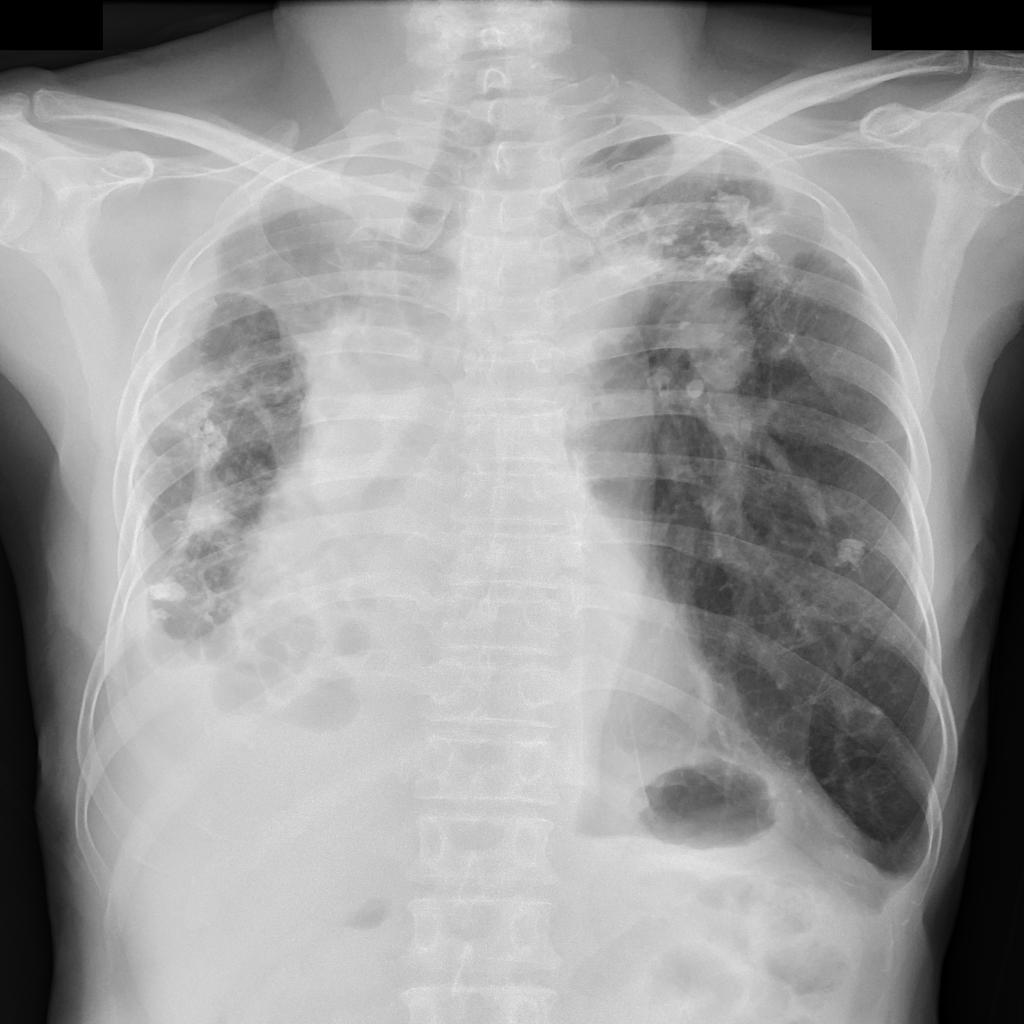Nodule: (681, 276, 759, 390), (834, 534, 866, 564), (150, 585, 193, 606)
